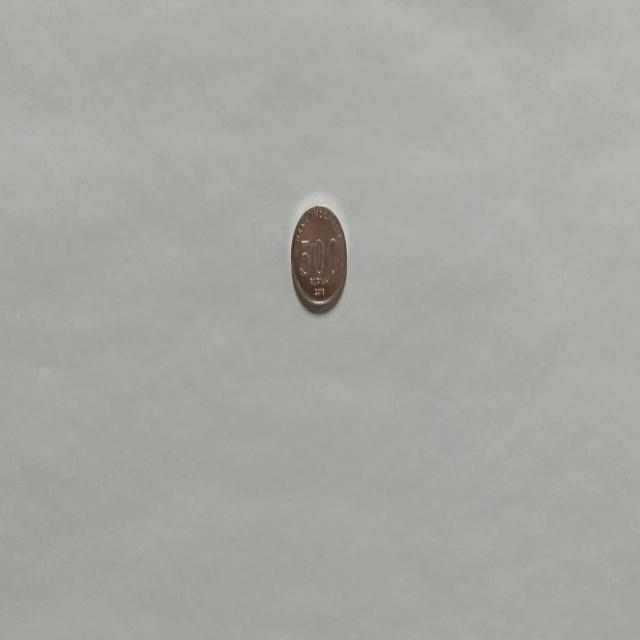lima ratus rupiah: (290, 204, 348, 314)
